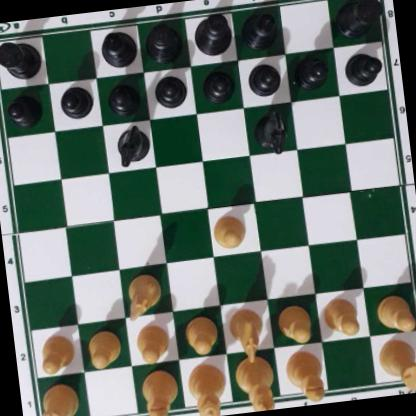black-bishop: (237, 7, 282, 51), (96, 26, 140, 68)
black-king: (189, 10, 234, 61)
black-knight: (252, 106, 290, 155), (114, 124, 150, 165)
black-pawn: (343, 48, 382, 87), (246, 58, 282, 97), (294, 52, 330, 91), (58, 82, 94, 121), (152, 69, 187, 109), (5, 90, 42, 127), (200, 65, 235, 104), (106, 79, 140, 117)
black-queen: (142, 18, 185, 66)
black-rook: (0, 35, 42, 82), (334, 0, 383, 38)
white-bishop: (284, 349, 326, 403), (140, 368, 184, 416)
white-king: (234, 353, 278, 414)
white-knight: (226, 305, 267, 364), (122, 269, 162, 318)
white-pawn: (321, 294, 362, 338), (374, 291, 416, 333), (37, 331, 76, 375), (276, 301, 314, 343), (132, 321, 170, 363), (181, 313, 218, 355), (85, 326, 122, 367), (210, 211, 247, 250)
white-queen: (184, 360, 230, 416)
white-rook: (377, 332, 416, 394), (34, 377, 79, 416)
